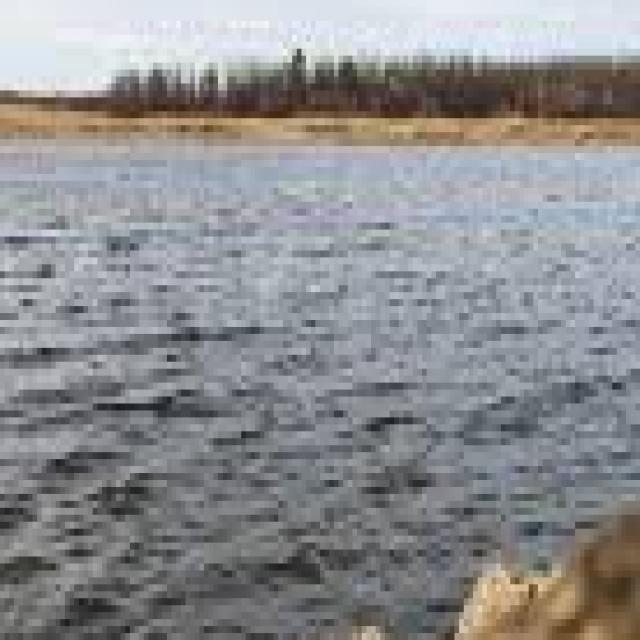-: (0, 153, 515, 522)
